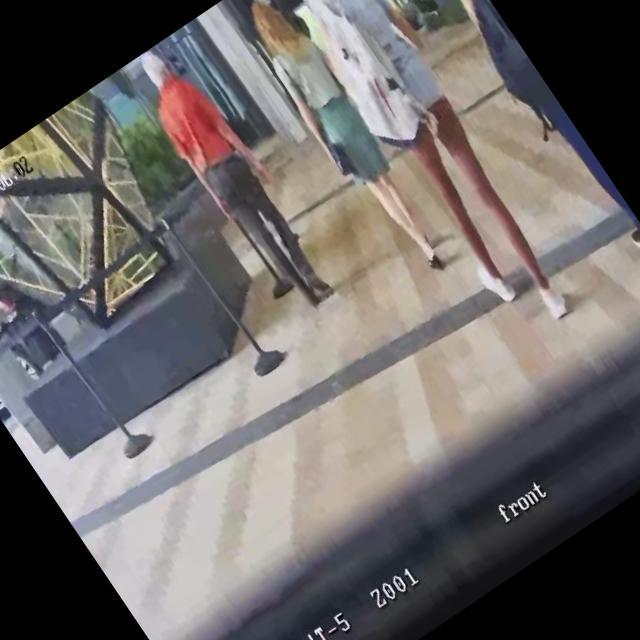person: (265, 0, 596, 348), (232, 0, 463, 287), (121, 32, 347, 324), (408, 0, 640, 267)
